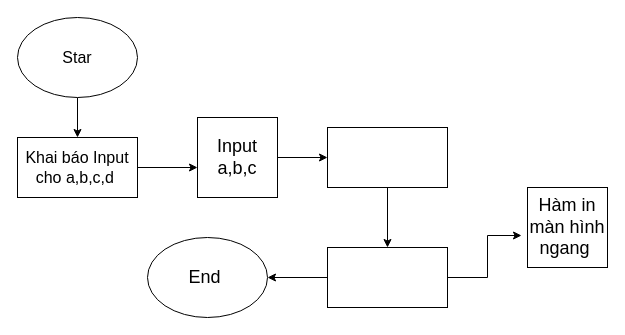
Some shapes in this 625 by 335 pixel diagram are drawn without their labels. The shapes that lost their labels are listed below. From the top down, each one's box as (x1, y1, x2, y2) in pixels, then its label:
(326, 126, 448, 188): d=a+b+c
(326, 246, 448, 308): Output d
